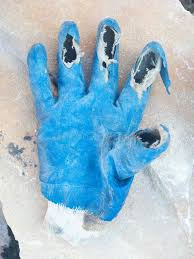defected: (18, 17, 193, 214)
